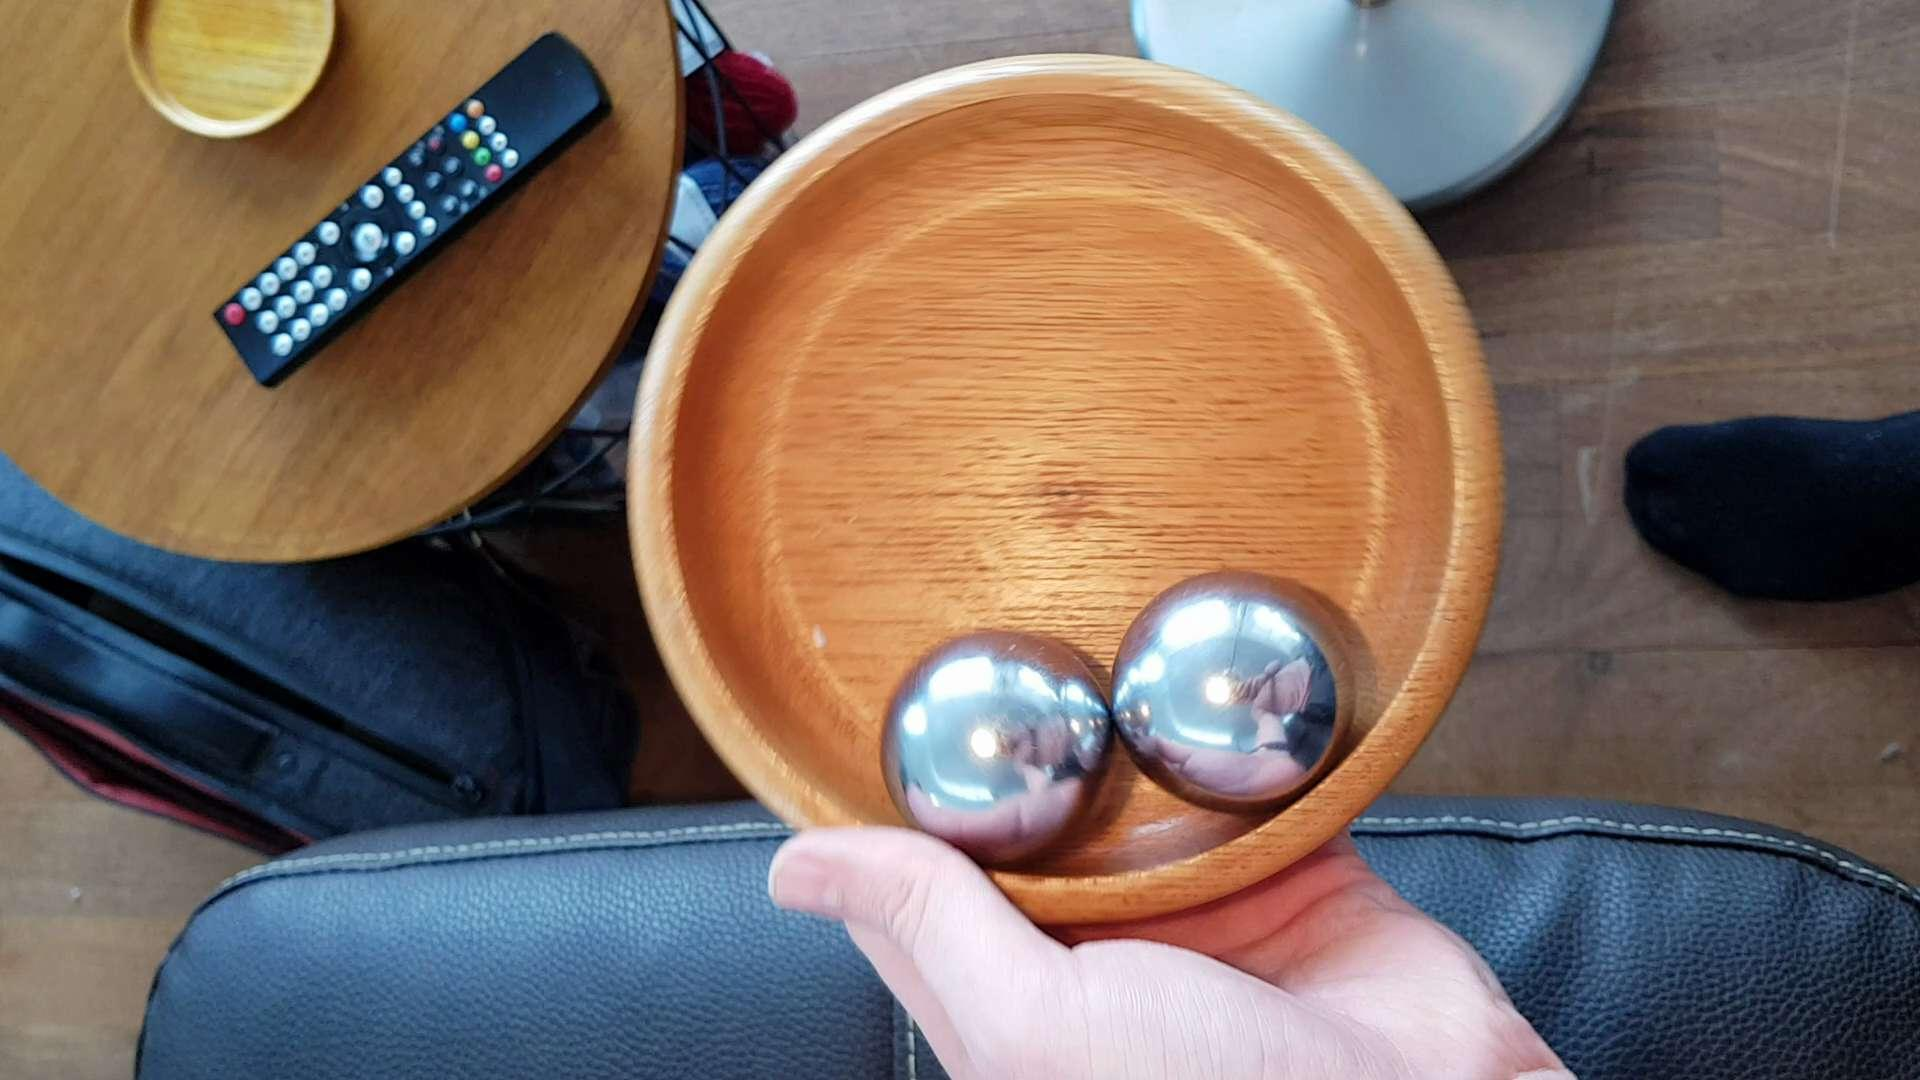sphere: (1092, 562, 1342, 819), (876, 625, 1124, 855)
